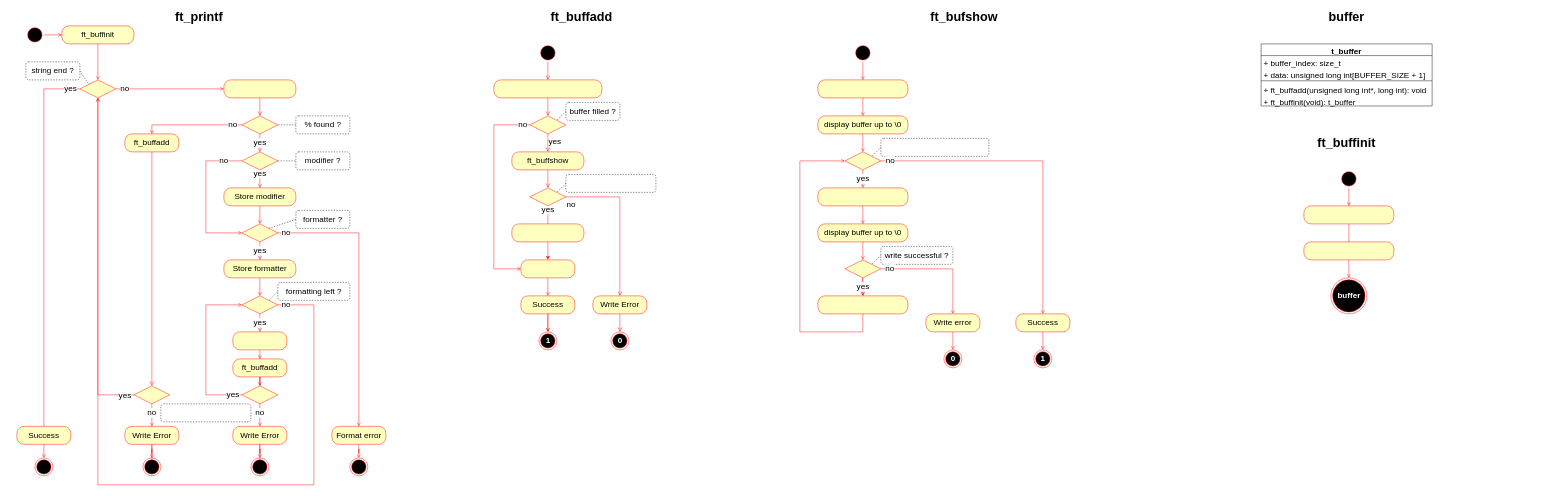
This 1545x496 diagram has some shape labels left out. Each missing label, with the centre of its shape:
Add longword to buffer: the point at 547,88
Append 0: the point at 547,268
buffer.data[0] = '\0': the point at 1348,250
buffer.index = 0: the point at 1348,214
find next \0 in buffer: the point at 862,196
find next longword with empty byte (\0) in buffer: the point at 862,88
format: the point at 259,340
ft_buffadd successful ?: the point at 205,412
ft_buffshow successful ?: the point at 610,183
move on to next longword with no \0: the point at 862,304
not at the end of buffer ?: the point at 934,147
Parse: the point at 259,88
Reset buffer index: the point at 547,232
